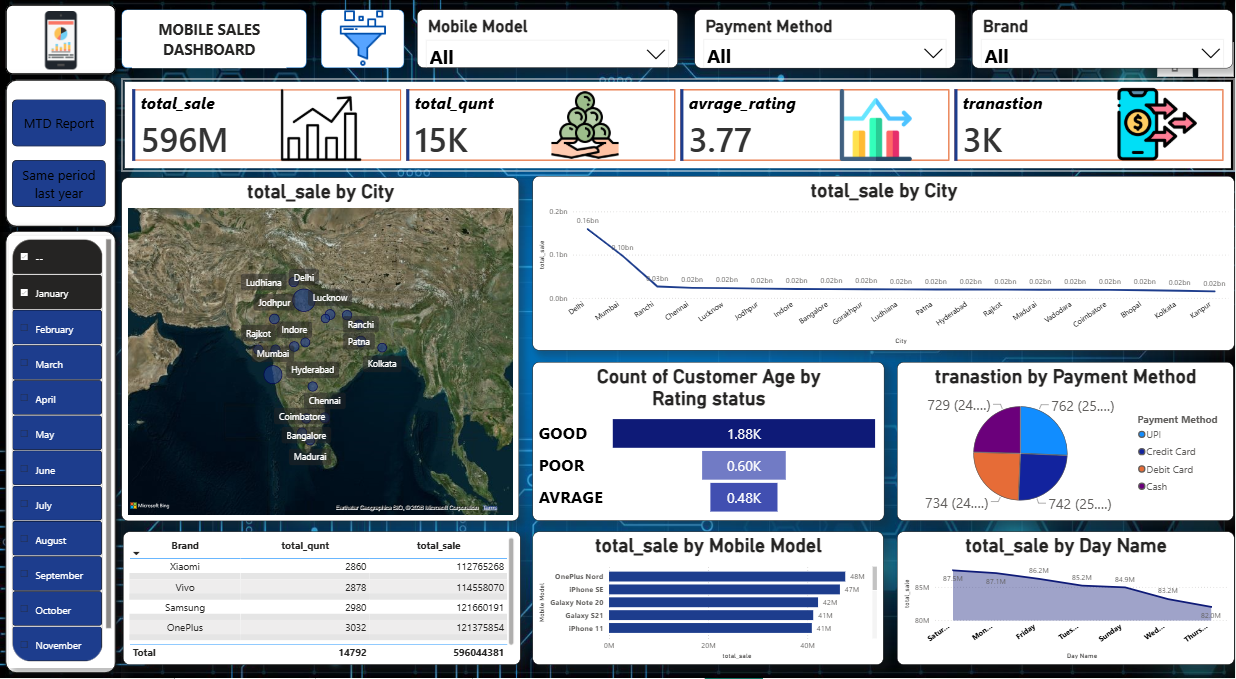

The page's visual inventory and layout, read from the dashboard file:
{"tool":"powerbi","page":{"name":"Dashbord","canvas":[2000,1100],"ordinal":0},"visuals":[{"type":"shape","box":[0,0,196.8,131.2],"z":0},{"type":"shape","box":[0,122.3,196.9,256.9],"z":1000},{"type":"shape","box":[0,366.9,196.8,733.9],"z":2000},{"type":"advancedSlicerVisual","fields":{"Values":["custom calender.date.Variation.Date Hierarchy.Month"]},"box":[14.6,384,170.1,699.9],"z":3000},{"type":"image","box":[0,19.4,196.8,94.8],"z":4000},{"type":"cardVisual","fields":{"Data":["sales_data.total_sale","sales_data.total_qunt","sales_data.avrage_rating","sales_data.tranastion"]},"box":[197.5,130,1802.5,150],"z":5000},{"type":"image","box":[797.1,145.8,301.3,116.6],"z":6000},{"type":"image","box":[381.5,121.5,277,165.2],"z":7000},{"type":"image","box":[1749.7,138.5,250.3,128.8],"z":8000},{"type":"image","box":[1261.2,145.8,315.9,116.6],"z":9000},{"type":"slicer","fields":{"Values":["sales_data.Payment Method"]},"box":[1125,17.5,422.5,95],"z":10000},{"type":"slicer","fields":{"Values":["sales_data.Brand"]},"box":[1575,17.5,422.5,95],"z":11000},{"type":"slicer","fields":{"Values":["sales_data.Mobile Model"]},"box":[675.6,17,422.8,94.8],"z":12000},{"type":"shape","box":[520,17.5,135,95],"z":13000},{"type":"image","box":[507.5,17.5,160,92.5],"z":14000},{"type":"shape","box":[197.5,17.5,300,95],"z":15000},{"type":"textbox","box":[215,27.5,250,85],"z":16000},{"type":"map","fields":{"Category":["sales_data.City"],"Size":["sales_data.total_sale"]},"box":[196.8,289.2,644,556.5],"z":17000},{"type":"lineChart","fields":{"Y":["sales_data.total_sale"],"Category":["sales_data.City"]},"box":[862.5,287.5,1137.5,282.5],"z":18000},{"type":"funnel","fields":{"Category":["sales_data.Rating status"],"Y":["CountNonNull(sales_data.Customer Age)"]},"box":[862.5,587.5,570,257.5],"z":19000},{"type":"pieChart","fields":{"Category":["sales_data.Payment Method"],"Y":["sales_data.tranastion"]},"box":[1452.5,587.5,545,257.5],"z":20000},{"type":"barChart","fields":{"Y":["sales_data.total_sale"],"Category":["sales_data.Mobile Model"]},"box":[862.7,862.7,568.6,216.3],"z":21000},{"type":"areaChart","fields":{"Category":["sales_data.Day Name"],"Y":["sales_data.total_sale"]},"box":[1453.2,862.7,546.8,216.3],"z":22000},{"type":"tableEx","fields":{"Values":["sales_data.Brand","sales_data.total_qunt","sales_data.total_sale"]},"box":[199.3,862.7,644,216.3],"z":23000},{"type":"pageNavigator","box":[20,162.5,152.5,175],"z":24000}]}

Visuals, with their boxes in screenshot pixels (x1, y1, x2, y2), scaled from the page's 2000x1100 canvas onto the 1236x679 screenshot:
shape: BBox(0, 0, 122, 81)
shape: BBox(0, 75, 122, 234)
shape: BBox(0, 226, 122, 678)
advancedSlicerVisual - custom calender.date.Variation.Date Hierarchy.Month: BBox(9, 237, 114, 669)
image: BBox(0, 12, 122, 70)
cardVisual - sales_data.total_sale x sales_data.total_qunt: BBox(122, 80, 1235, 173)
image: BBox(493, 90, 679, 162)
image: BBox(236, 75, 407, 177)
image: BBox(1081, 85, 1235, 165)
image: BBox(779, 90, 975, 162)
slicer - sales_data.Payment Method: BBox(695, 11, 956, 69)
slicer - sales_data.Brand: BBox(973, 11, 1234, 69)
slicer - sales_data.Mobile Model: BBox(418, 10, 679, 69)
shape: BBox(321, 11, 405, 69)
image: BBox(314, 11, 413, 68)
shape: BBox(122, 11, 307, 69)
textbox: BBox(133, 17, 287, 69)
map - sales_data.City x sales_data.total_sale: BBox(122, 179, 520, 522)
lineChart - sales_data.total_sale x sales_data.City: BBox(533, 177, 1235, 352)
funnel - sales_data.Rating status x CountNonNull(sales_data.Customer Age): BBox(533, 363, 885, 522)
pieChart - sales_data.Payment Method x sales_data.tranastion: BBox(898, 363, 1234, 522)
barChart - sales_data.total_sale x sales_data.Mobile Model: BBox(533, 533, 885, 666)
areaChart - sales_data.Day Name x sales_data.total_sale: BBox(898, 533, 1235, 666)
tableEx - sales_data.Brand x sales_data.total_qunt: BBox(123, 533, 521, 666)
pageNavigator: BBox(12, 100, 107, 208)
